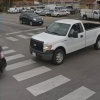crosswalk: (0, 46, 95, 100), (6, 31, 38, 41)
